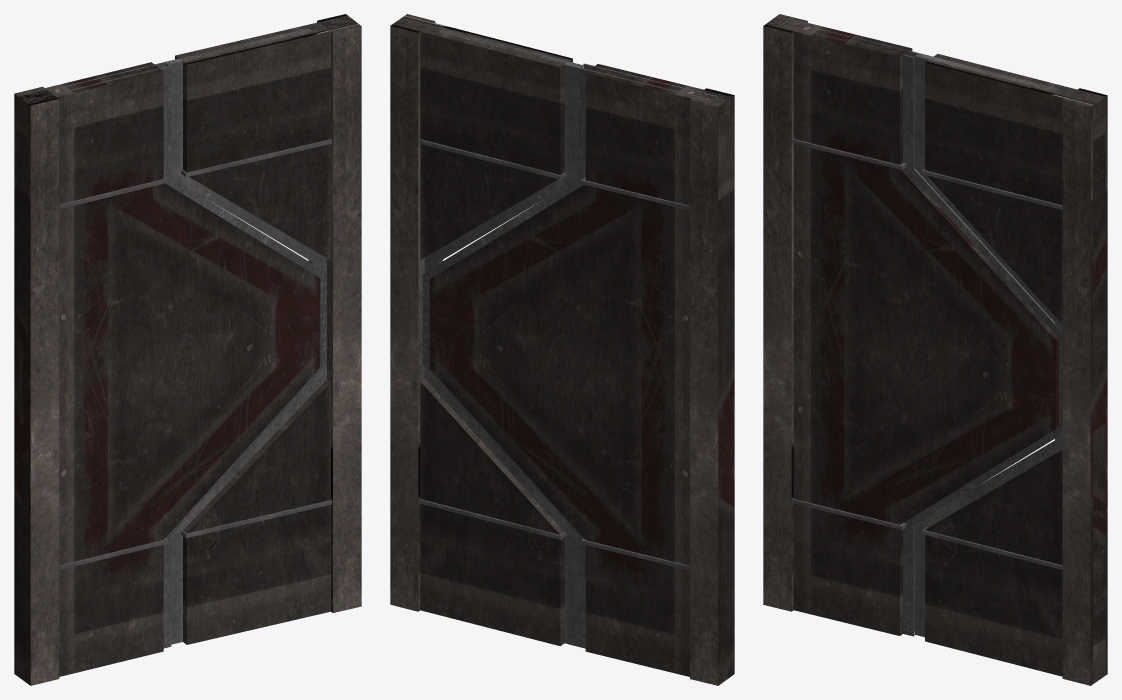
3 views of the same model, side by side, from view 1: azimuth 30°, elevation 25°; view 2: azimuth 150°, elevation 25°; view 3: azimuth 330°, elevation 25° (orthographic).
Parts seen in each view (by area): view 1: Object_5, Object_8, Object_7, Object_4; view 2: Object_5, Object_8, Object_7, Object_4; view 3: Object_5, Object_8, Object_4, Object_7.
Part boxes in pixels (<box>): Object_5: <box>14,62,320,685</box>; Object_8: <box>175,14,361,644</box>; Object_7: <box>165,28,331,644</box>; Object_4: <box>30,62,326,648</box>; Object_5: <box>429,64,734,685</box>; Object_8: <box>390,14,572,646</box>; Object_7: <box>419,29,582,646</box>; Object_4: <box>422,63,718,648</box>; Object_5: <box>763,14,1058,635</box>; Object_8: <box>925,53,1107,685</box>; Object_4: <box>779,20,1062,636</box>; Object_7: <box>915,53,1062,637</box>.
Bounding box in the file's own units: 18.58 × 31.2 × 1.73.
2 materials, 2 textured.
